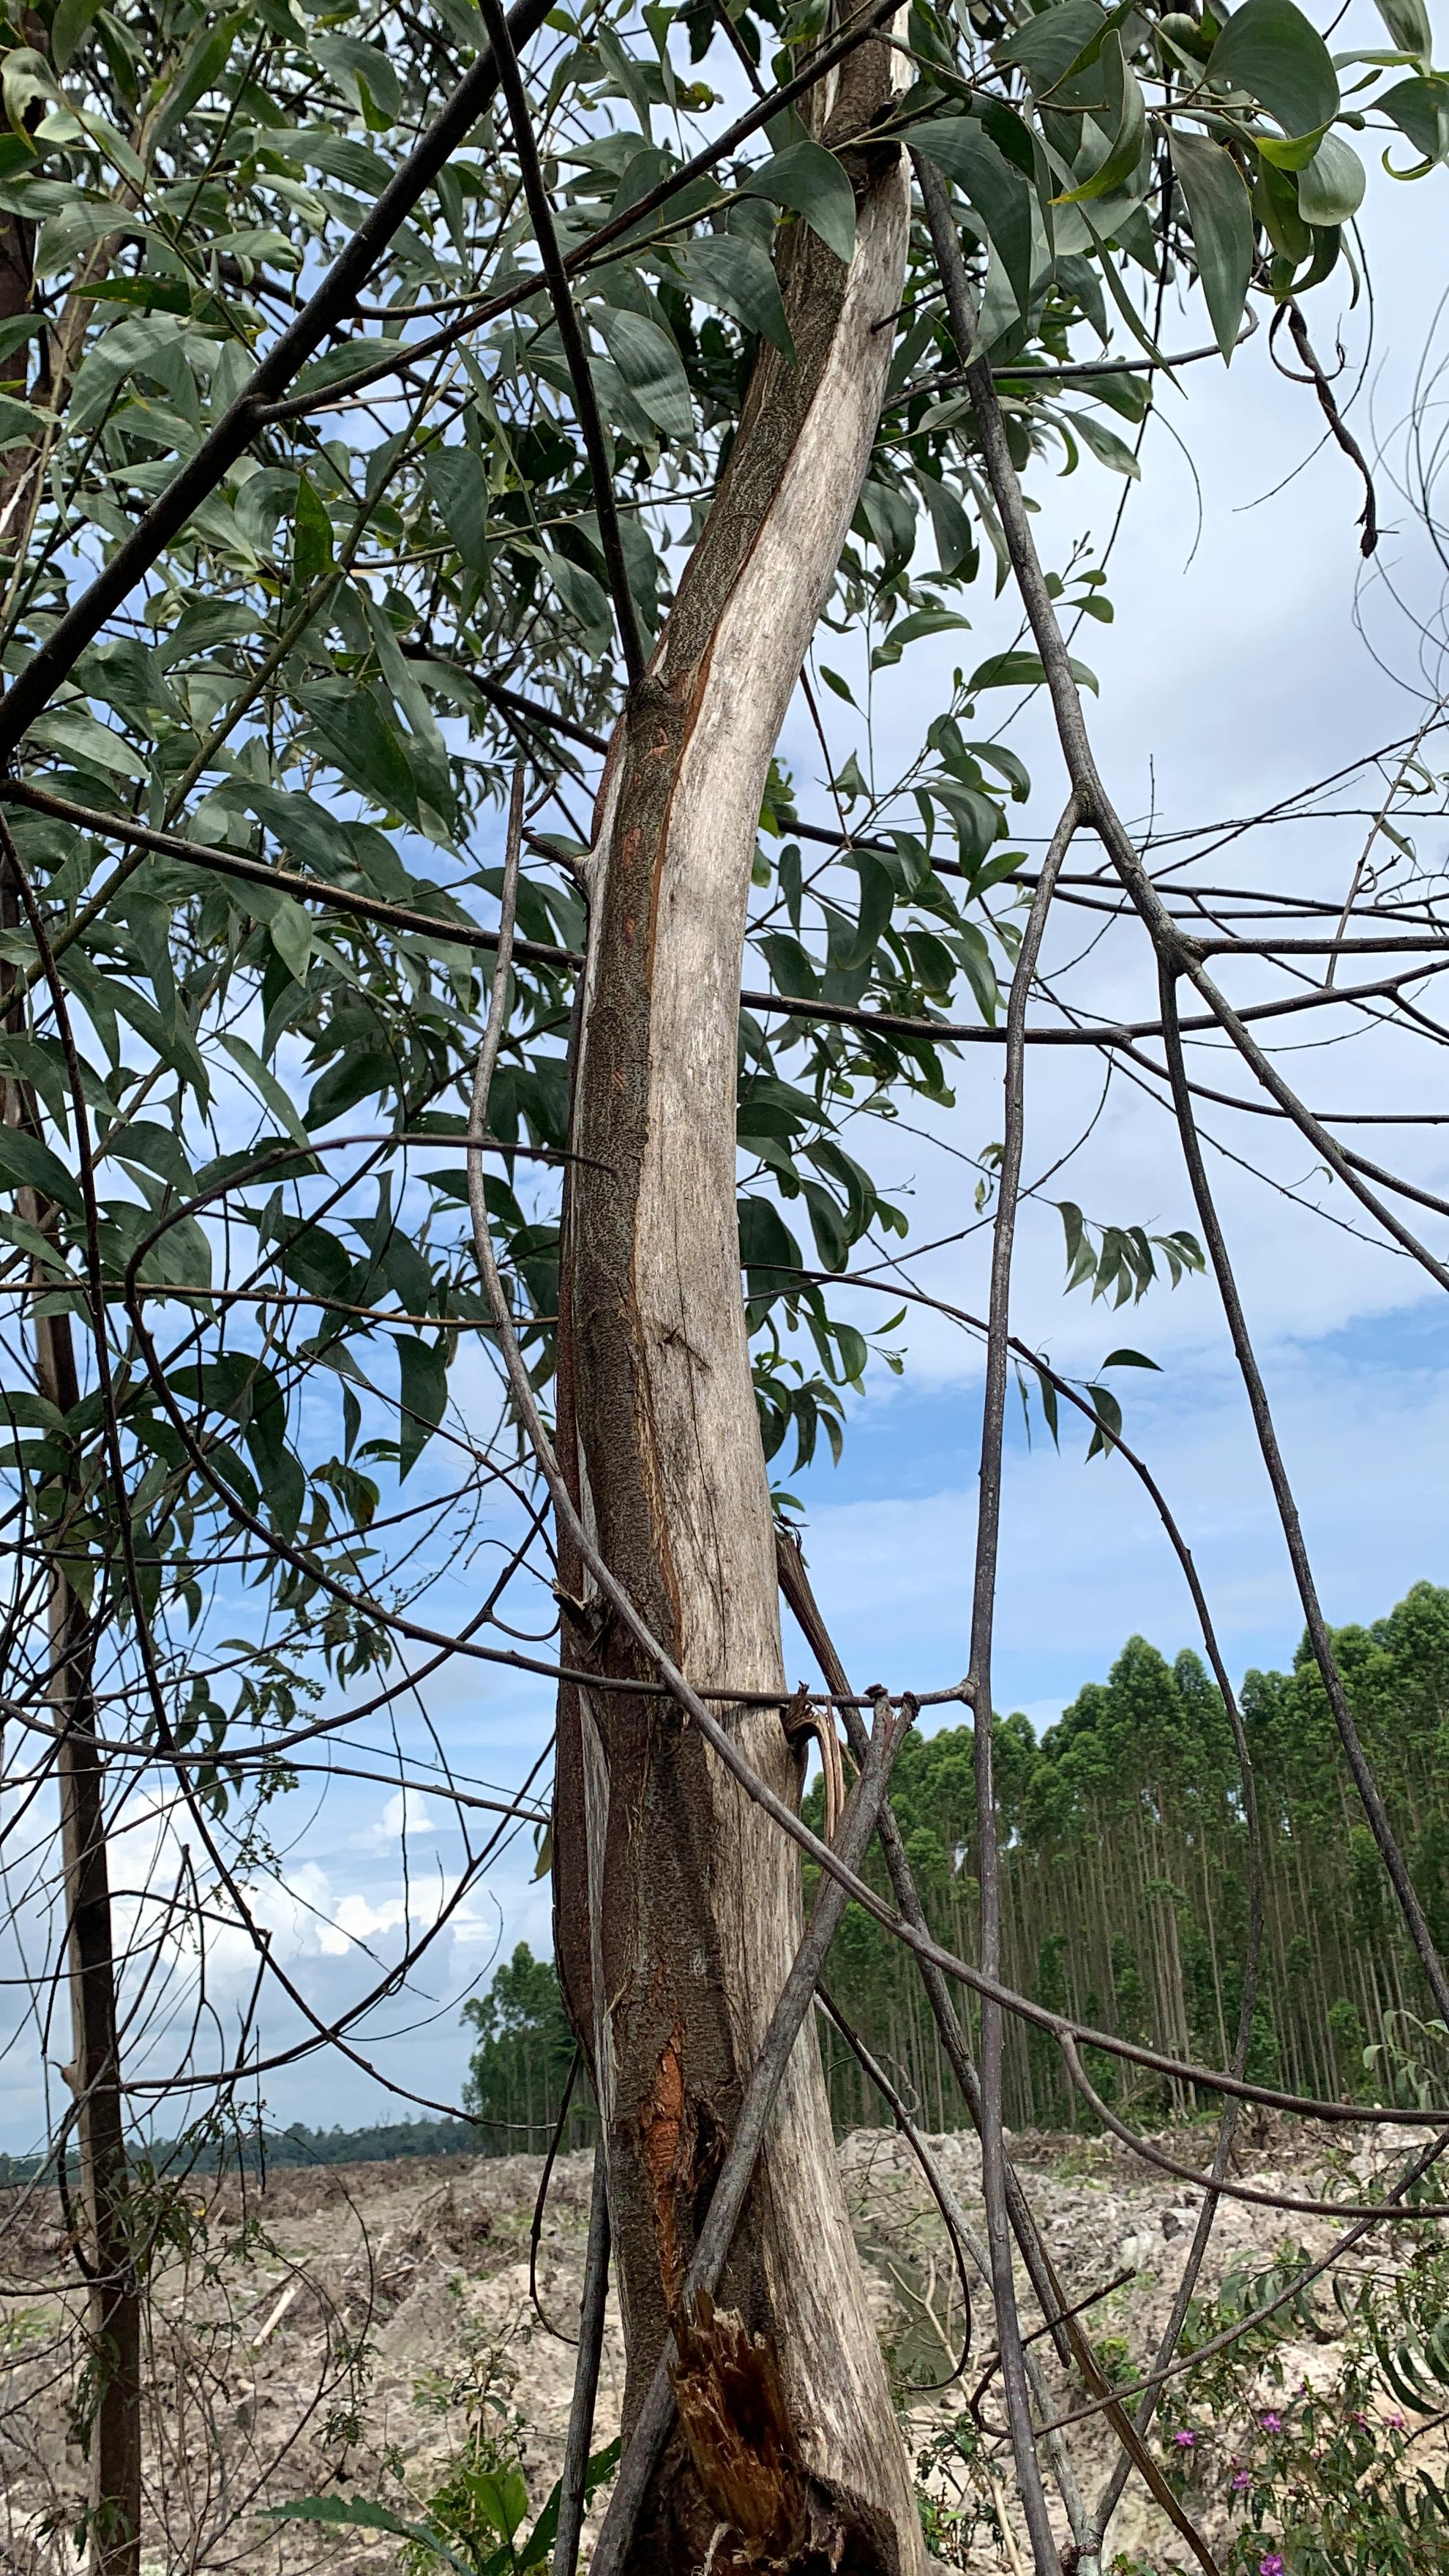Mammals Attack: (517, 0, 989, 2576)
